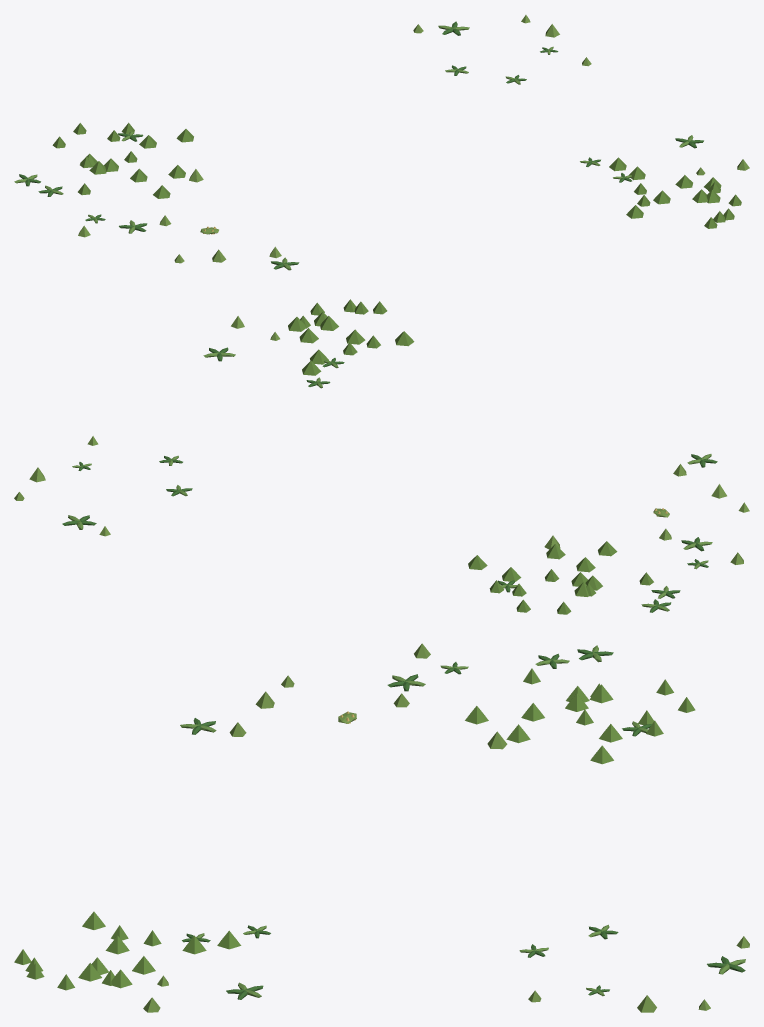
File: stone_sentinels_nonsolid_props.fbx
The picture shows the model from 3 angles, top to bottom: view 1: azimuth 30°, elevation 25°; view 2: azimuth 150°, elevation 25°; view 3: azimuth 270°, elevation 25°; orthographic projection. The views are drawn at different scales.
Visible parts, largest first — view 1: chunk_stone_sentinels__PropsNonSolid; view 2: chunk_stone_sentinels__PropsNonSolid; view 3: chunk_stone_sentinels__PropsNonSolid.
Boxes of the visible parts, x1,y1,x2,y2 form: chunk_stone_sentinels__PropsNonSolid: (14, 15, 749, 270); chunk_stone_sentinels__PropsNonSolid: (14, 299, 749, 614); chunk_stone_sentinels__PropsNonSolid: (14, 643, 749, 1012).
Bounding box in the file's own units: 191 × 6.2 × 161.
